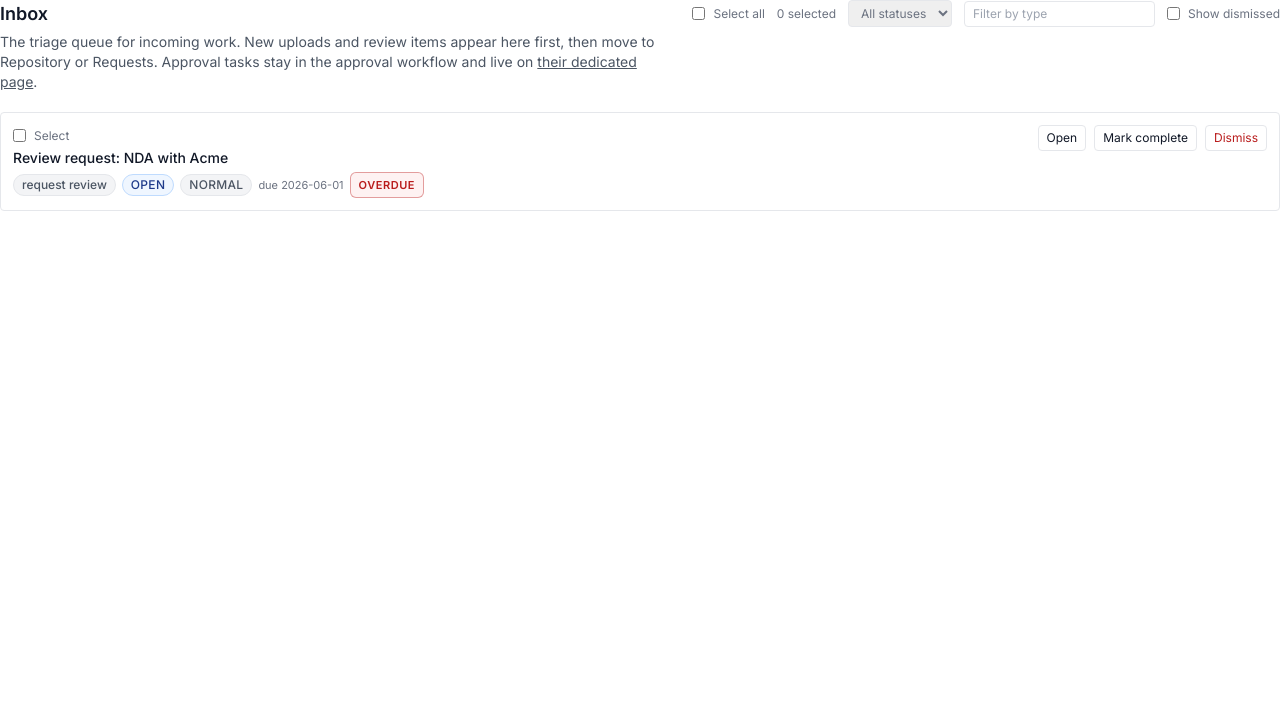
Test: InboxPage › opens the Repository classification modal from bulk actions
Expected: the link "Review request: NDA with Acme" is shown, x1=13 y1=148 x2=228 y2=166
Click the checkbox with test id "inbox-row-checkbox".
click(20, 136)  # box x1=13 y1=129 x2=26 y2=142
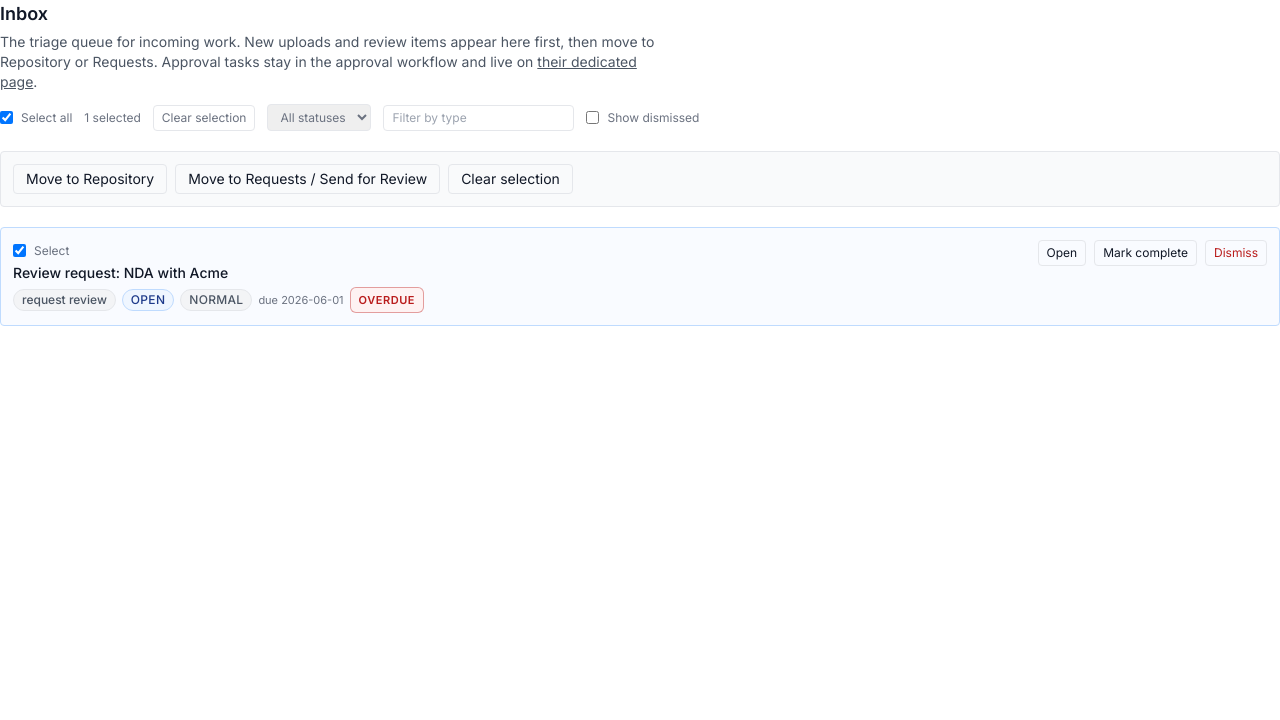
Click the button with test id "inbox-move-repository".
click(90, 179)  # box x1=13 y1=164 x2=167 y2=194
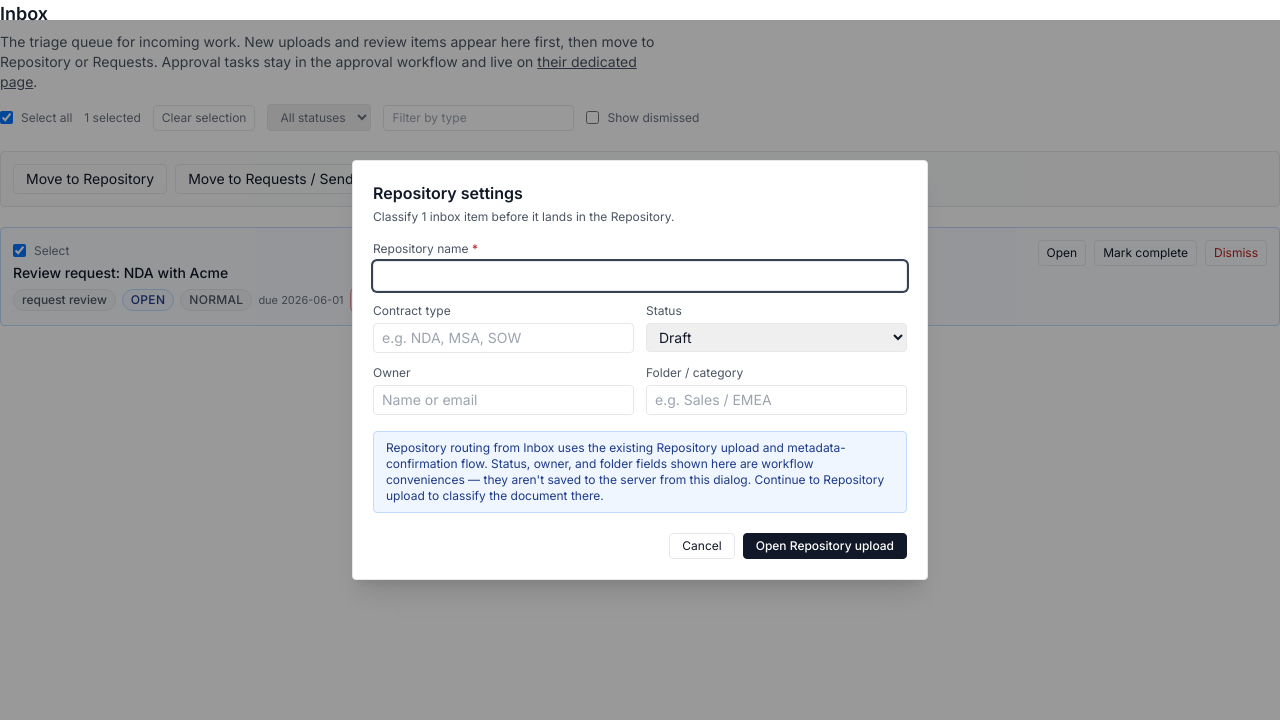
Now the dialog with test id "repository-classification-modal" is shown
Now the field with test id "repo-classify-name" is shown, box x1=373 y1=261 x2=907 y2=291
Now the field with test id "repo-classify-contract-type" is shown, box x1=373 y1=323 x2=634 y2=353
